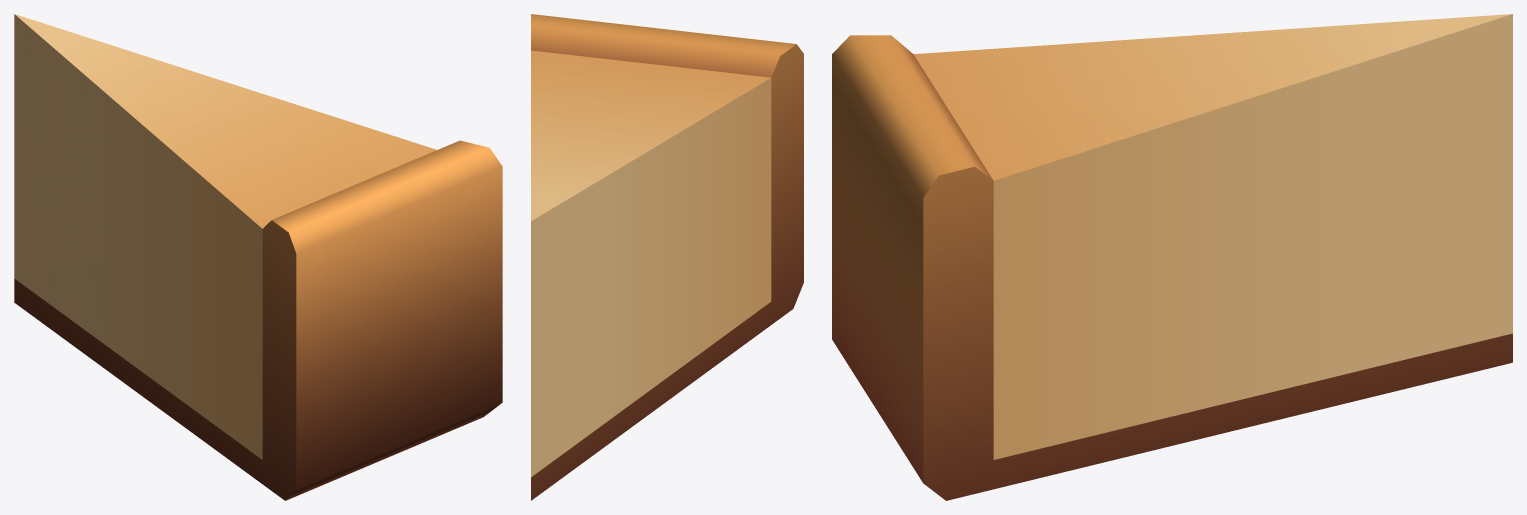
Rendered from m_GermanCheeseCake01_Slice.fbx.
The picture shows the model from 3 angles, left to right: view 1: azimuth 30°, elevation 25°; view 2: azimuth 150°, elevation 25°; view 3: azimuth 270°, elevation 25°; orthographic projection. The views are drawn at different scales.
Visible parts, largest first — view 1: m_GermanCheeseCake01_Slice; view 2: m_GermanCheeseCake01_Slice; view 3: m_GermanCheeseCake01_Slice.
Part boxes in pixels (bbox=[...]): m_GermanCheeseCake01_Slice: bbox=[14, 14, 502, 500]; m_GermanCheeseCake01_Slice: bbox=[531, 14, 803, 500]; m_GermanCheeseCake01_Slice: bbox=[832, 14, 1512, 500].
Bounding box in the file's own units: 7 × 7.91 × 14.
